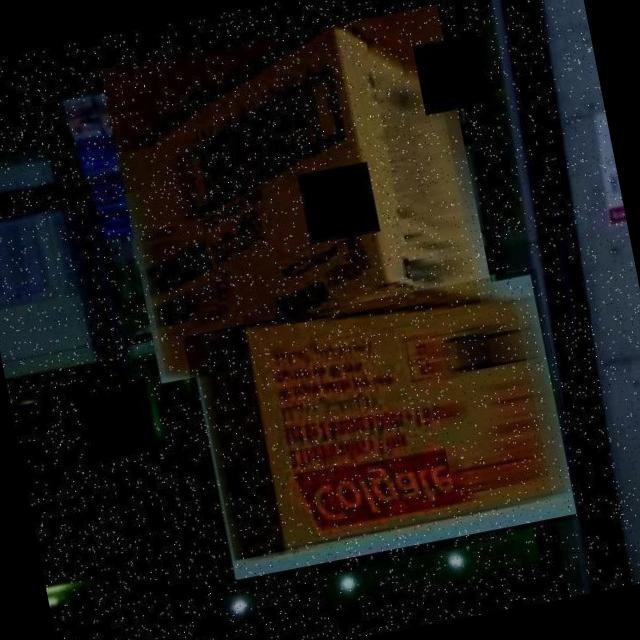box: (94, 0, 505, 389), (182, 268, 584, 586)
